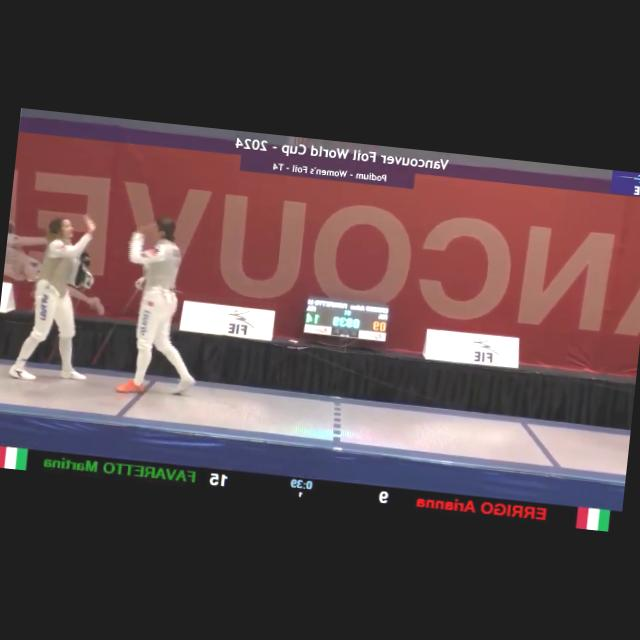blade: (90, 275, 143, 369), (45, 276, 92, 367)
